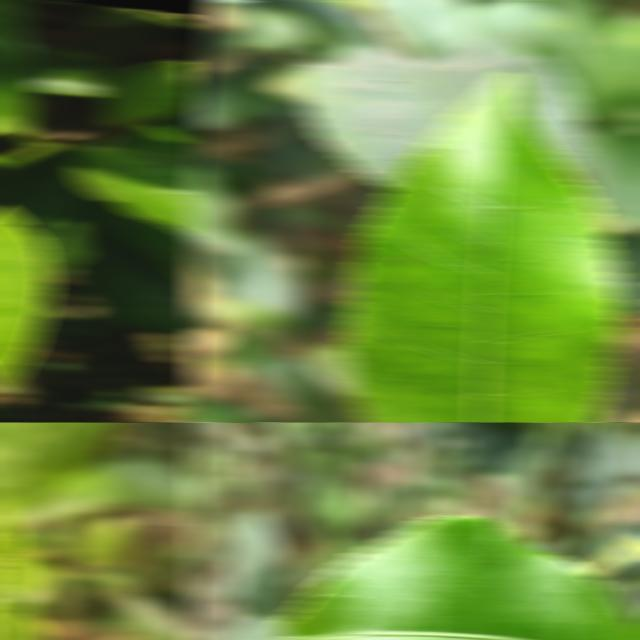Leaf: (342, 73, 624, 422), (276, 515, 640, 640), (298, 42, 587, 187), (68, 221, 198, 343), (10, 456, 198, 525), (70, 143, 198, 237), (0, 422, 122, 513), (106, 203, 198, 288), (571, 122, 640, 234), (225, 510, 294, 620), (98, 60, 198, 128), (191, 77, 291, 130), (0, 0, 38, 137), (186, 161, 242, 252), (437, 422, 537, 471), (563, 429, 640, 483), (120, 110, 198, 160), (603, 235, 640, 311), (186, 395, 272, 422)
